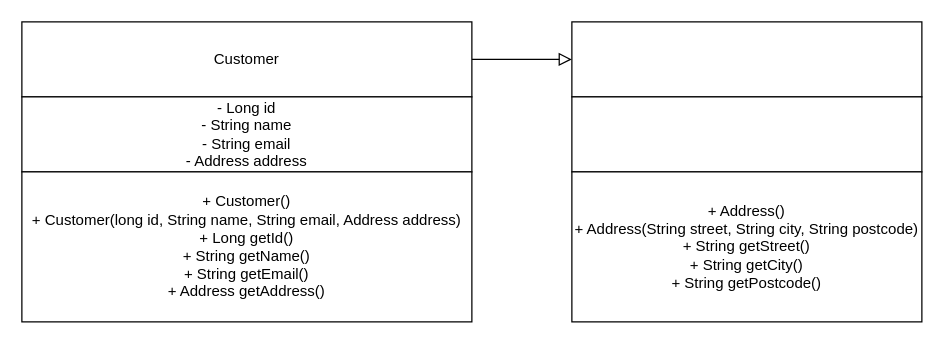
The diagram is 944 pixels wide and 344 high, and some of its shapes have lost their labels. The shapes that lost their labels are listed below. From the top down, each one's centre as x and y in pixels, then its label:
At point 746,59: "Address".
At point 746,134: "- String street - String city - String postcode".
